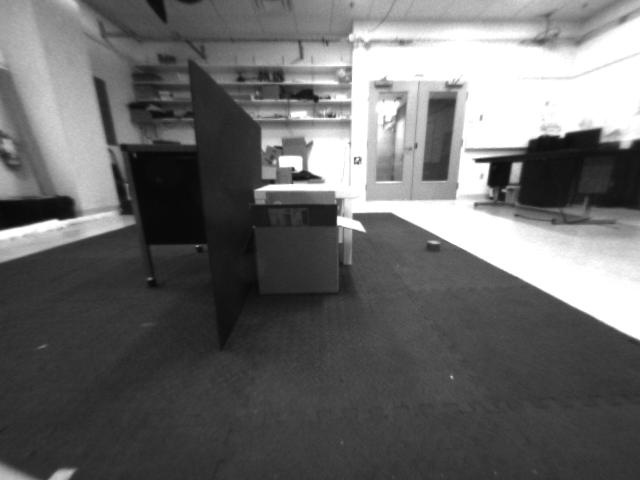dogtoy: (418, 229, 448, 259)
